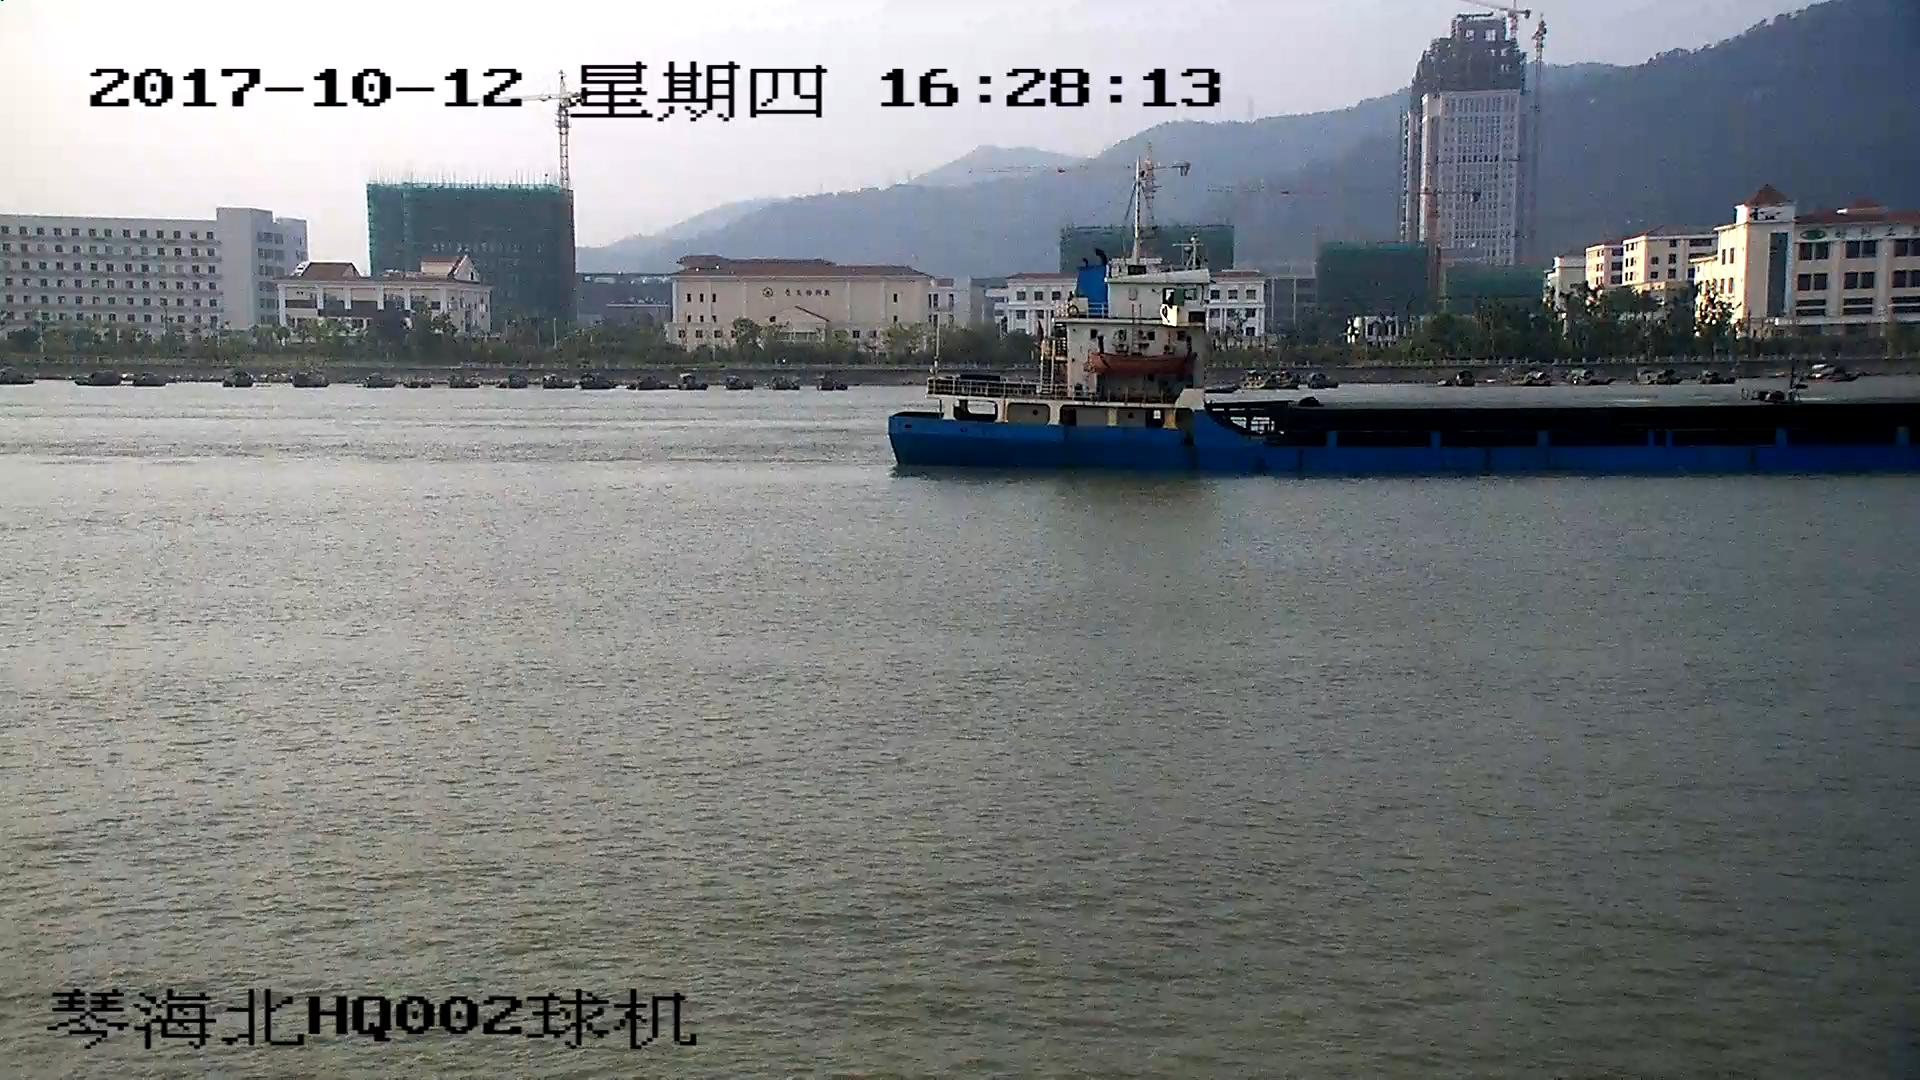general cargo ship: (882, 166, 1920, 479)
